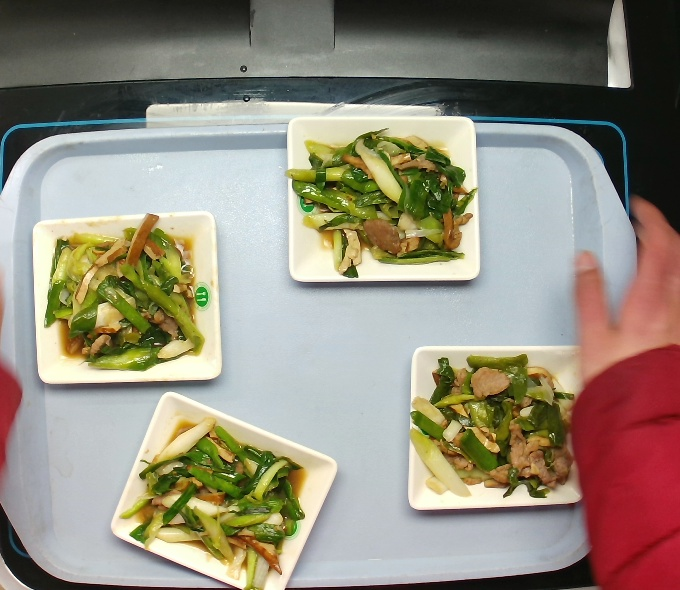wcq-SuanYeChaoRou: (113, 411, 312, 590), (279, 122, 480, 287), (403, 350, 597, 505), (38, 209, 209, 377)
